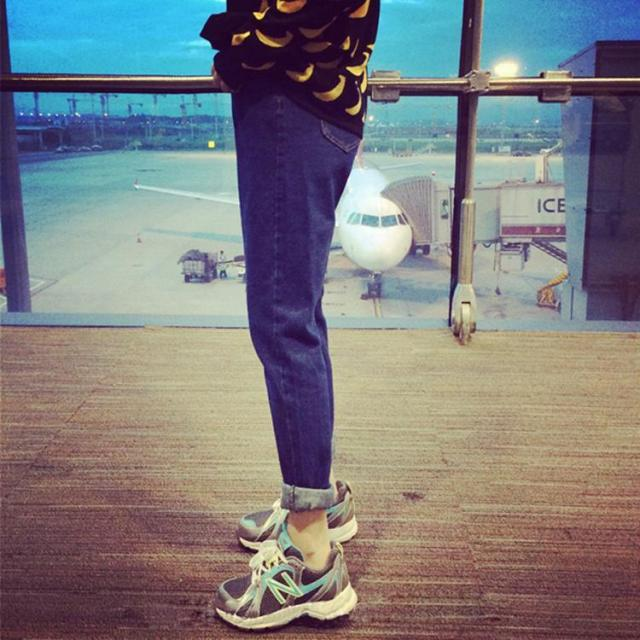long sleeve outwear: (257, 3, 379, 136)
trousers: (230, 37, 365, 505)
